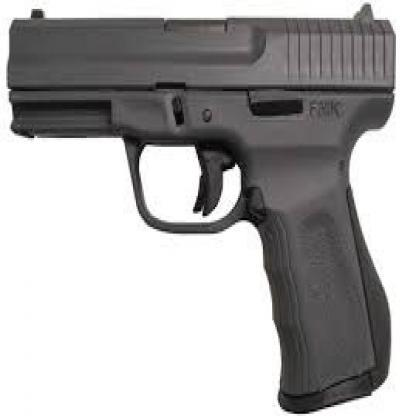Pistol: (5, 1, 398, 413)
